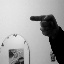g: (28, 11, 58, 40)
